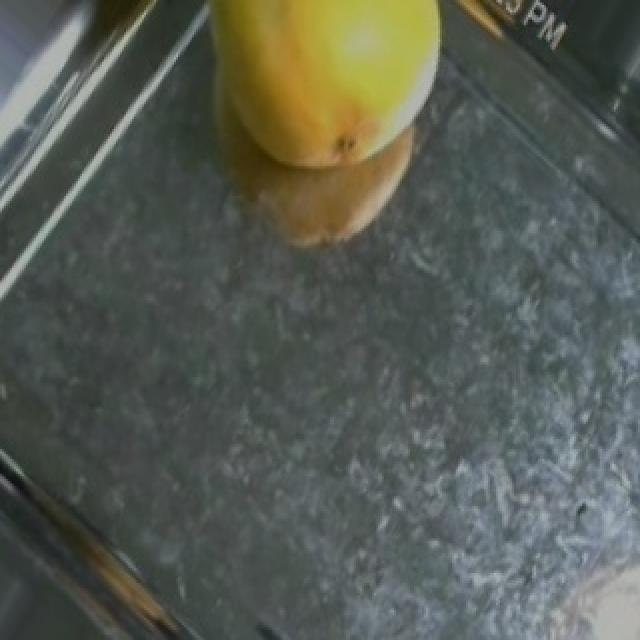fruit: (154, 0, 500, 233)
